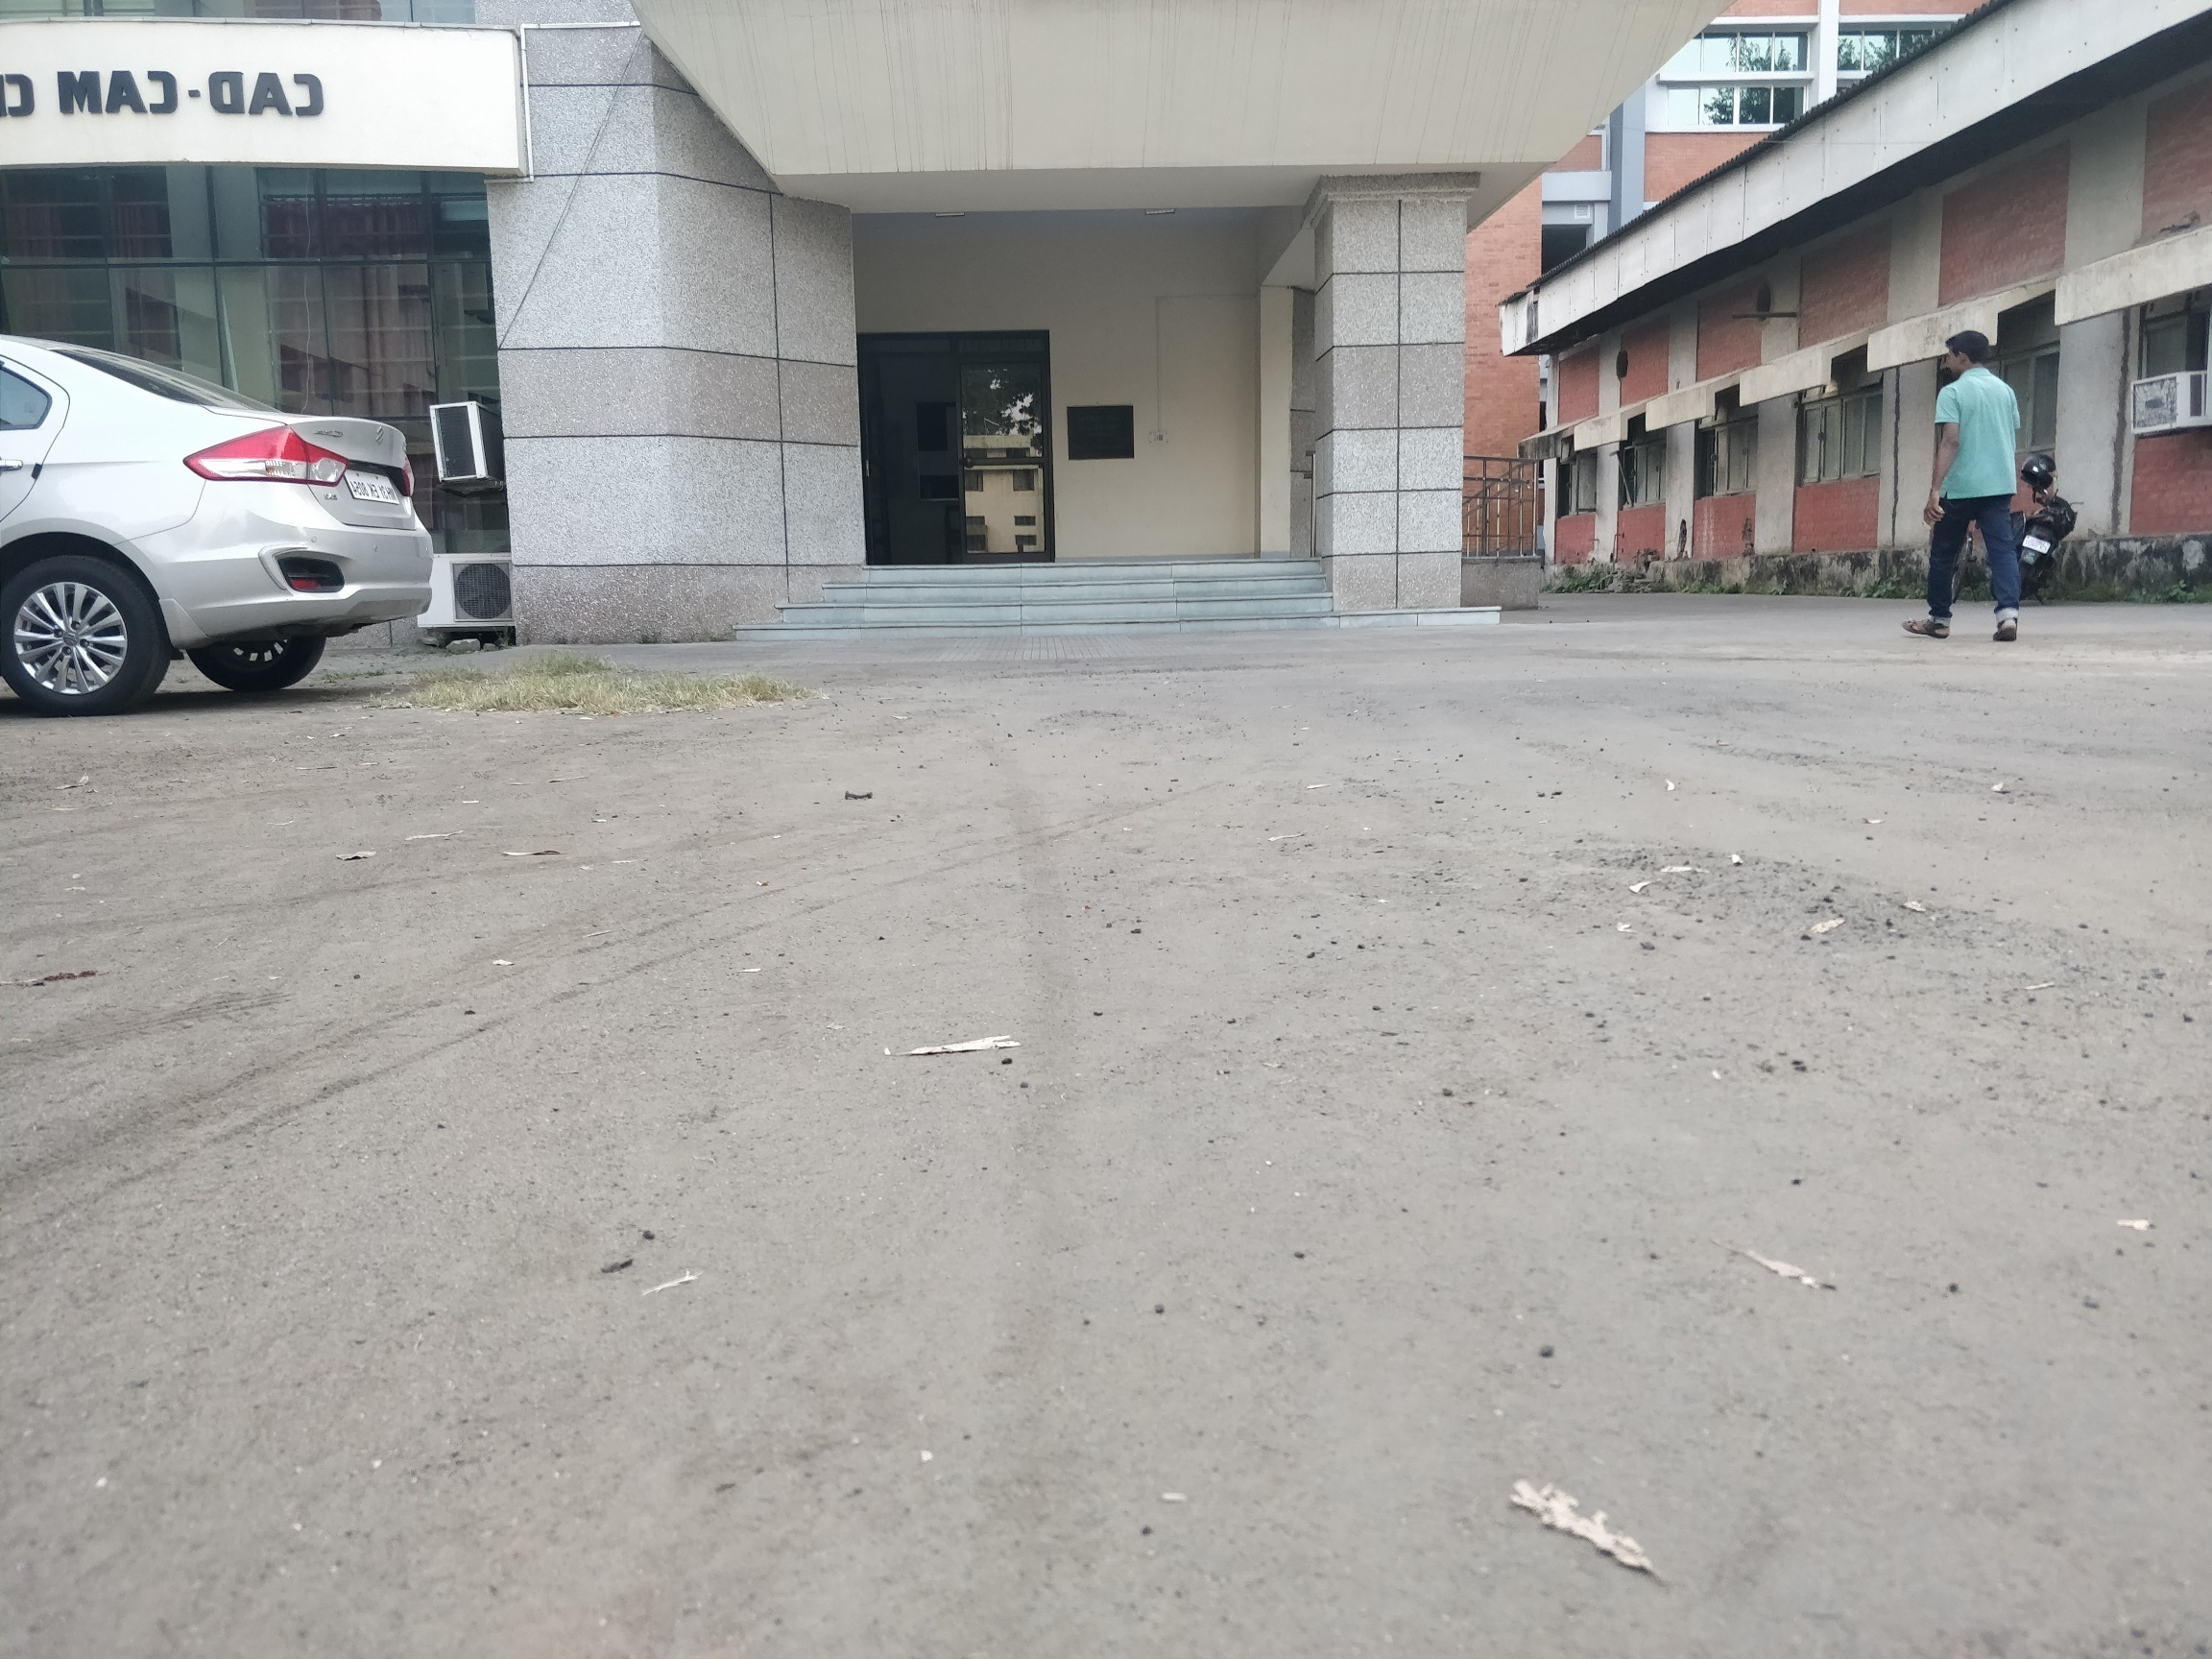stairs_up: (759, 545, 1346, 640)
